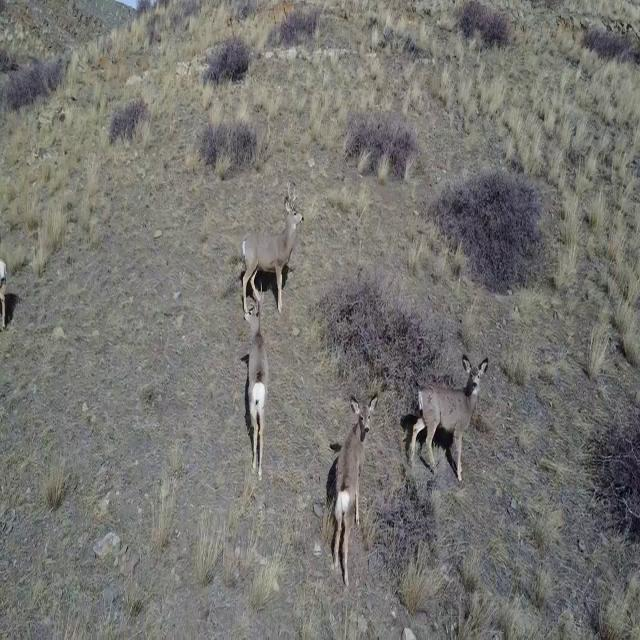Deer: (406, 353, 490, 481), (327, 394, 379, 589), (236, 181, 306, 313), (241, 285, 275, 482)
